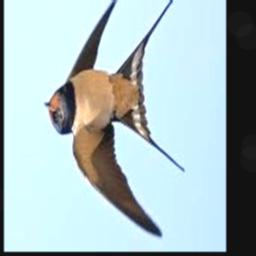Swallow: (44, 0, 184, 238)
